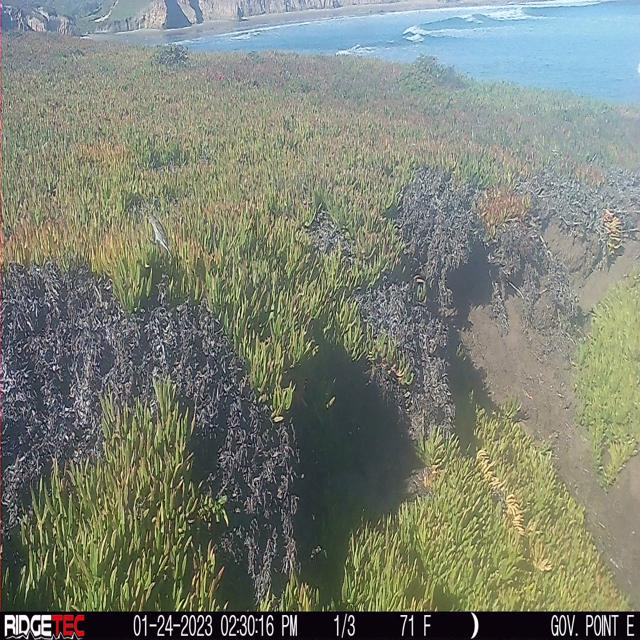bird: (142, 203, 175, 253)
